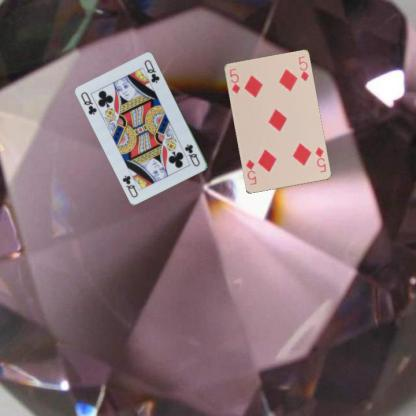5d: (227, 66, 241, 95), (313, 144, 327, 173)
Qc: (79, 89, 98, 116), (182, 142, 201, 168)
